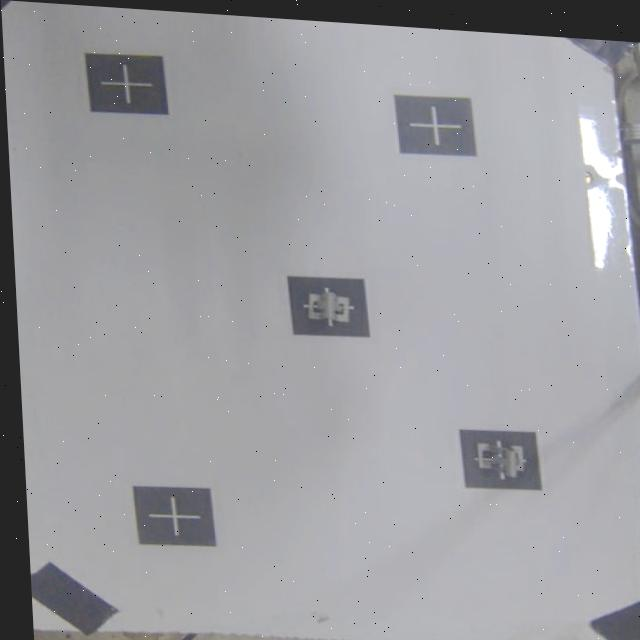pick2: (459, 426, 543, 493)
pick3: (286, 276, 369, 340)
